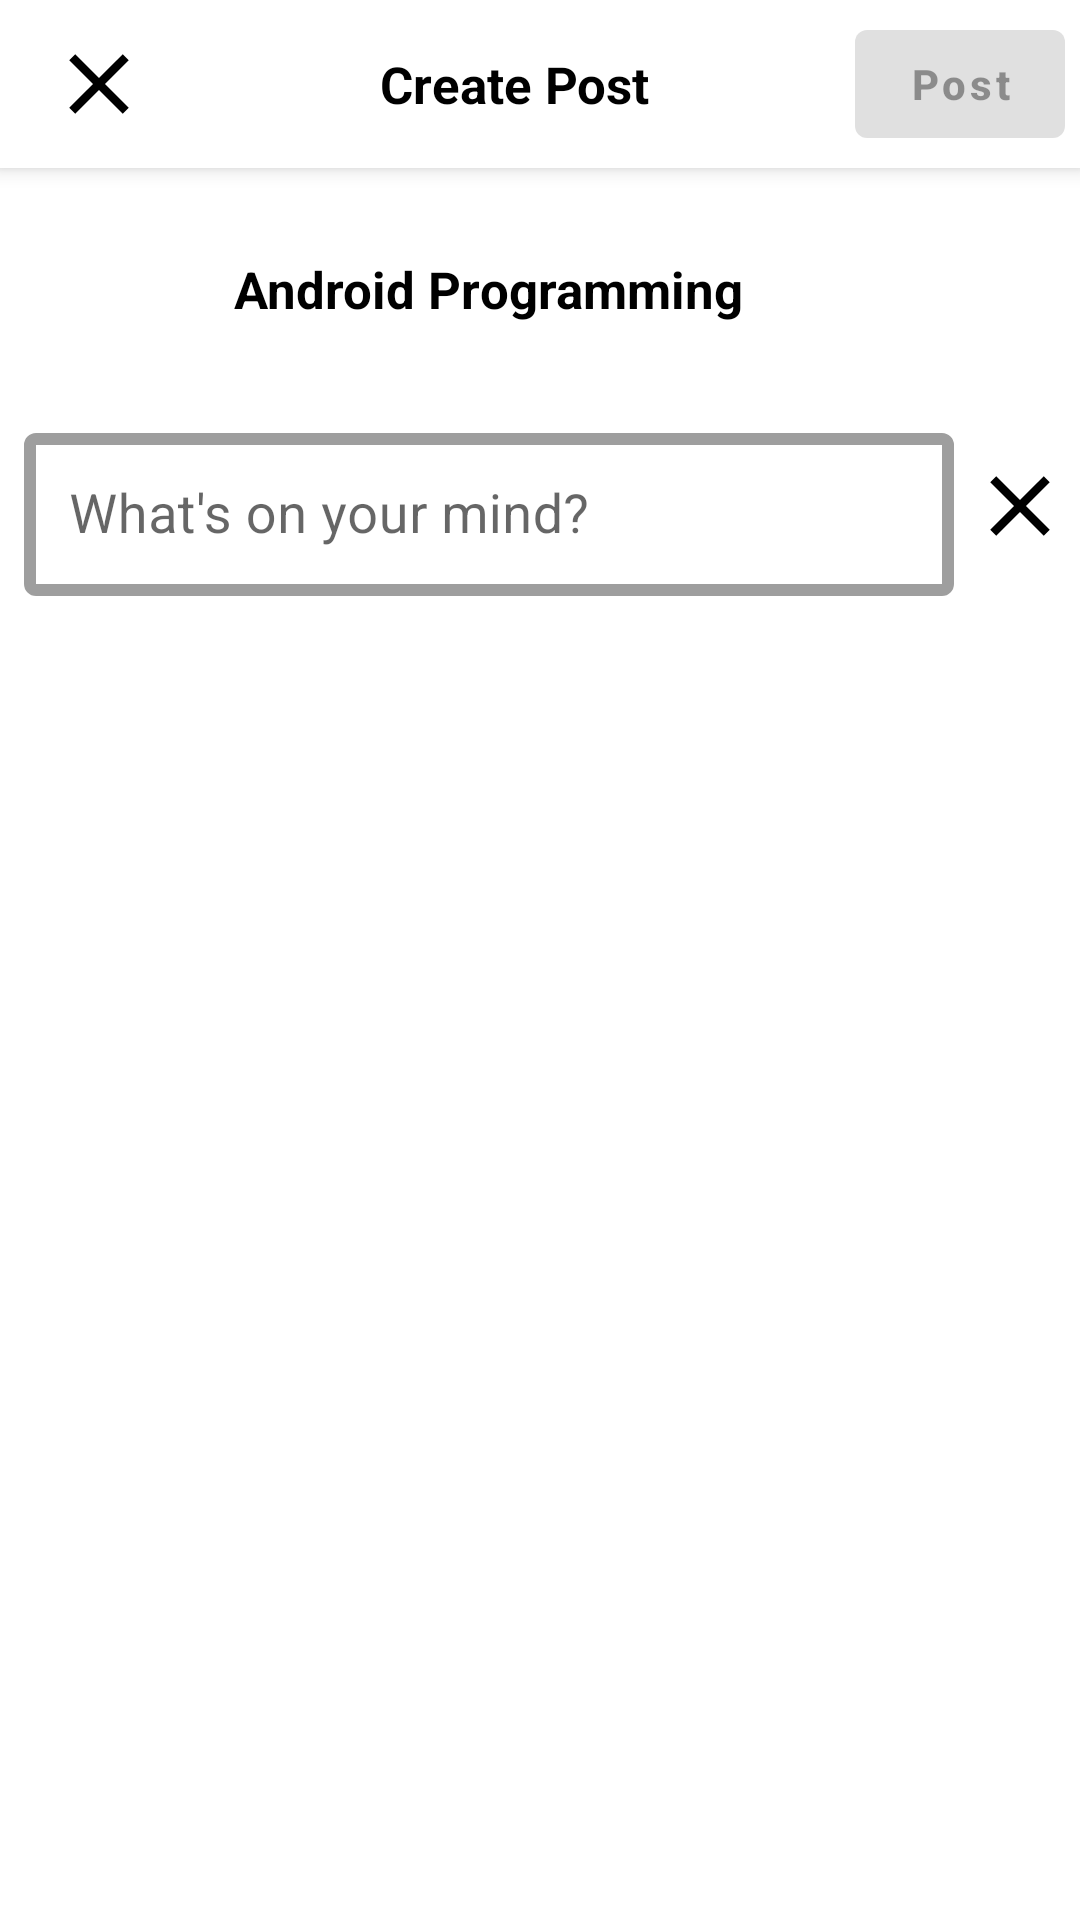

Point at icon controls on the screen. Image size 1080x1920, points as point (x, y).
close: point (99, 84), point (1020, 506)
